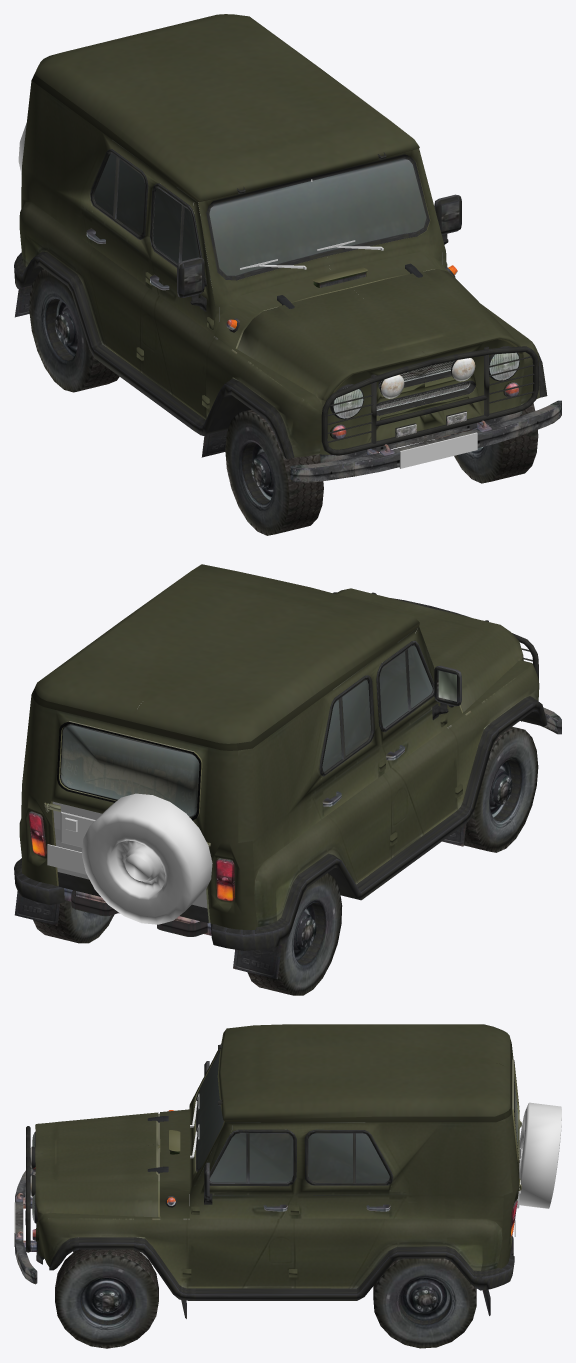
The model's file is car.glb.
The picture shows the model from 3 angles, top to bottom: view 1: azimuth 30°, elevation 25°; view 2: azimuth 150°, elevation 25°; view 3: azimuth 270°, elevation 25°; orthographic projection. The views are drawn at different scales.
Parts seen in each view (by area): view 1: Плоскость, Плоскость.009; view 2: Плоскость, Плоскость.008, Плоскость.003, Плоскость.004, Плоскость.009; view 3: Плоскость, Плоскость.008.
Boxes of the visible parts, x1,y1,x2,y2 form: Плоскость: (14,14,561,535); Плоскость.009: (399,432,477,468); Плоскость: (14,564,561,995); Плоскость.008: (82,793,212,924); Плоскость.003: (52,801,207,908); Плоскость.004: (60,811,95,847); Плоскость.009: (47,844,86,874); Плоскость: (15,1024,521,1348); Плоскость.008: (519,1102,561,1208).
Bounding box in the file's own units: 2.61 × 2.59 × 5.4.
2 materials, 1 textured.
